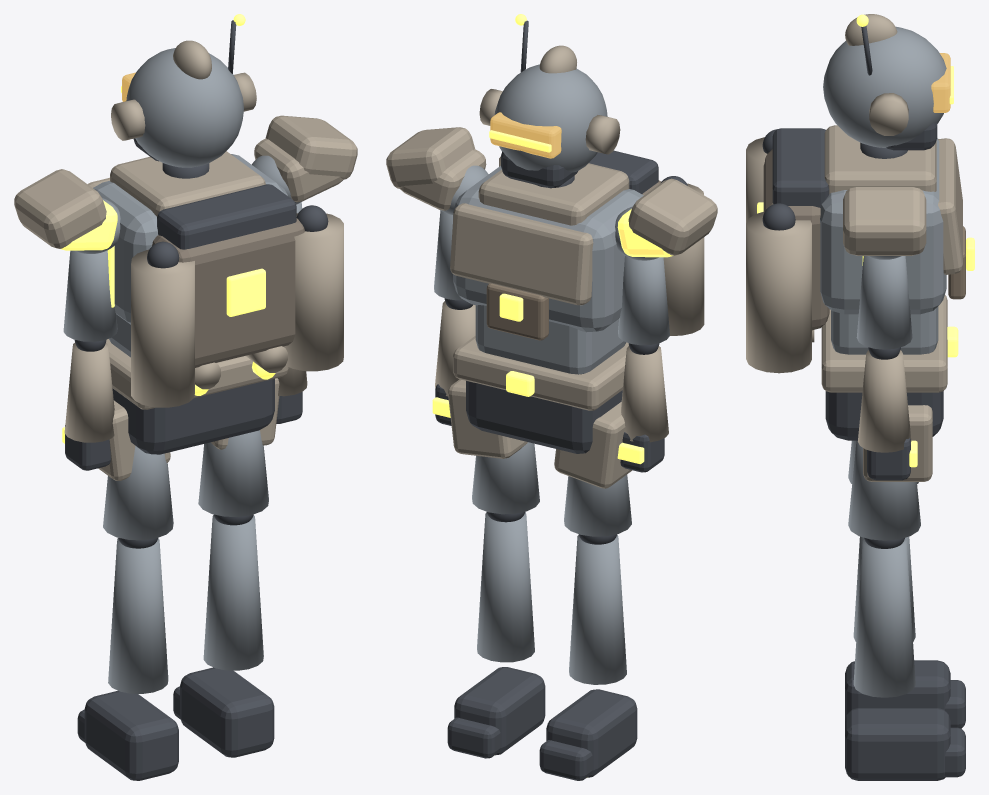
File: skin_heavy.glb
The picture shows the model from 3 angles, left to right: view 1: azimuth 30°, elevation 25°; view 2: azimuth 150°, elevation 25°; view 3: azimuth 270°, elevation 25°; orthographic projection. The views are drawn at different scales.
Visible parts, largest first — view 1: Backpack, Helmet, TankL, LeftShin, RightShin, TankR, Hips, RightBoot, LeftBoot, BackpackLid, Collar, RightLeg (+20 smaller); view 2: ChestPlate, RightShin, LeftShin, Helmet, Torso, Hips, Belt, Collar, Abdomen, LeftBoot, RightBoot, LeftPauldron (+25 smaller); view 3: TankR, Helmet, RightShin, RightBoot, Torso, RightPauldron, Collar, RightArm, RightForearm, Belt, RightLeg, BackpackLid (+18 smaller).
Boxes of the visible parts, x1=… form: Backpack: x1=152, y1=218, x2=304, y2=367; Helmet: x1=126, y1=48, x2=243, y2=167; TankL: x1=131, y1=249, x2=194, y2=407; LeftShin: x1=108, y1=538, x2=168, y2=693; RightShin: x1=203, y1=515, x2=263, y2=670; TankR: x1=283, y1=213, x2=343, y2=371; Hips: x1=112, y1=378, x2=274, y2=454; RightBoot: x1=180, y1=667, x2=274, y2=757; LeftBoot: x1=84, y1=691, x2=178, y2=780; BackpackLid: x1=157, y1=184, x2=296, y2=249; Collar: x1=110, y1=151, x2=265, y2=216; RightLeg: x1=198, y1=430, x2=268, y2=516; ChestPlate: x1=450, y1=203, x2=593, y2=305; RightShin: x1=477, y1=512, x2=534, y2=662; LeftShin: x1=569, y1=535, x2=626, y2=684; Helmet: x1=494, y1=64, x2=607, y2=172; Torso: x1=453, y1=166, x2=643, y2=332; Hips: x1=466, y1=381, x2=622, y2=453; Belt: x1=453, y1=336, x2=628, y2=410; Collar: x1=478, y1=163, x2=629, y2=225; Abdomen: x1=475, y1=305, x2=626, y2=374; LeftBoot: x1=546, y1=689, x2=637, y2=777; RightBoot: x1=454, y1=667, x2=545, y2=755; LeftPauldron: x1=628, y1=178, x2=717, y2=255; TankR: x1=746, y1=211, x2=811, y2=373; Helmet: x1=823, y1=26, x2=946, y2=147; RightShin: x1=853, y1=538, x2=915, y2=697; RightBoot: x1=845, y1=708, x2=950, y2=780; Torso: x1=820, y1=138, x2=946, y2=314; RightPauldron: x1=843, y1=187, x2=926, y2=255; Collar: x1=824, y1=125, x2=936, y2=193; RightArm: x1=856, y1=256, x2=912, y2=349; RightForearm: x1=858, y1=350, x2=911, y2=452; Belt: x1=821, y1=295, x2=947, y2=392; RightLeg: x1=848, y1=440, x2=920, y2=540; BackpackLid: x1=772, y1=128, x2=829, y2=207.
Bounding box in the file's own units: 0.8383 × 1.89 × 0.5202.
